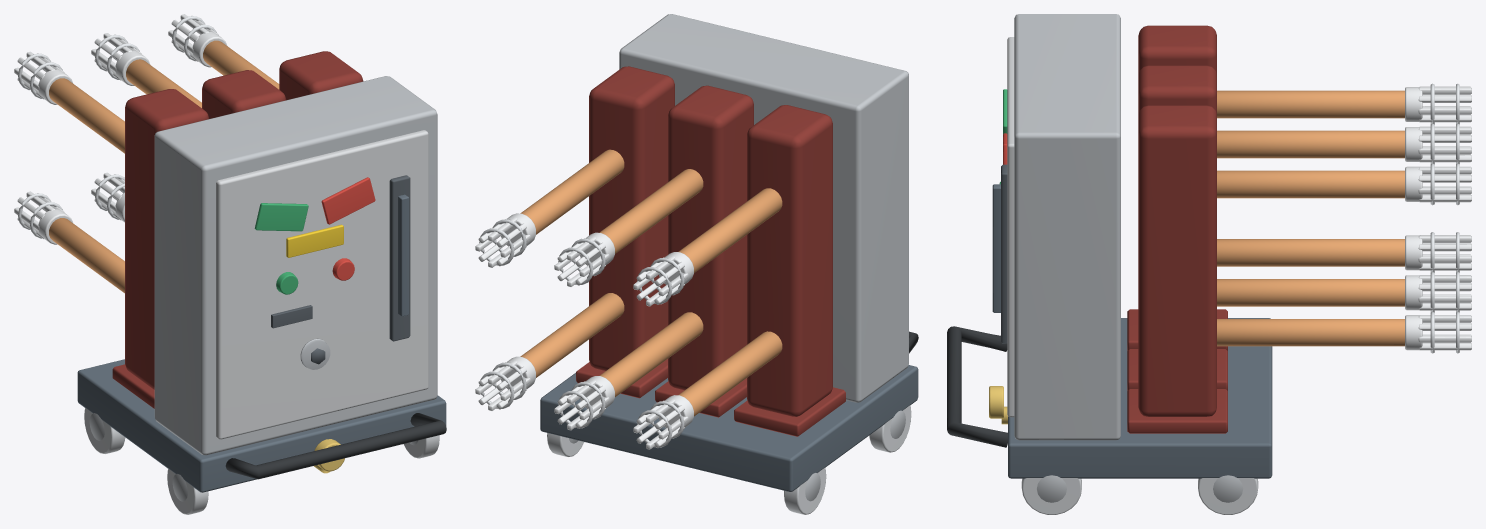
Rendered from vcb-cassette.glb.
The picture shows the model from 3 angles, left to right: view 1: azimuth 30°, elevation 25°; view 2: azimuth 150°, elevation 25°; view 3: azimuth 270°, elevation 25°; orthographic projection. The views are drawn at different scales.
Parts seen in each view (by area): view 1: VcbCassetteAssembly; view 2: VcbCassetteAssembly; view 3: VcbCassetteAssembly.
Part boxes in pixels (left/top/right/bottom): VcbCassetteAssembly: left=14, top=14, right=446, bottom=514; VcbCassetteAssembly: left=475, top=14, right=918, bottom=514; VcbCassetteAssembly: left=947, top=14, right=1471, bottom=514.
Bounding box in the file's own units: 0.482 × 0.6645 × 0.8342.
